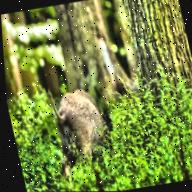boar: (31, 75, 123, 173)
